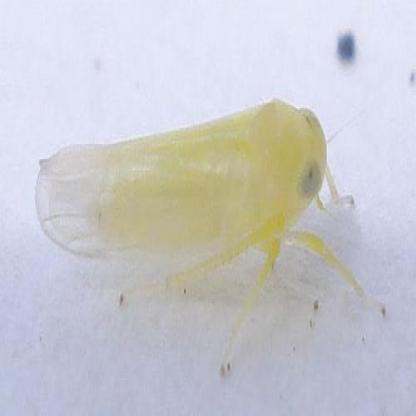green-leafhopper: (42, 106, 350, 328)
